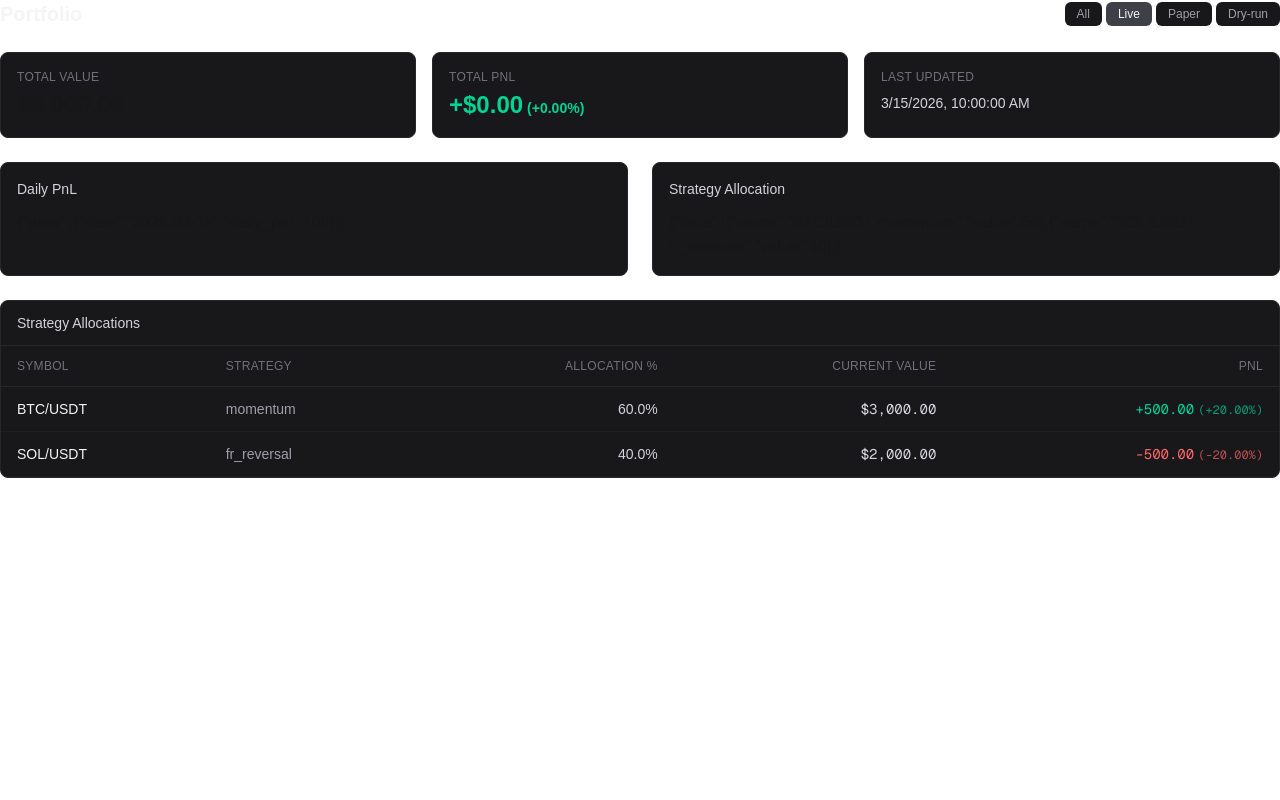
Test: Portfolio — detail panel › shows '—' for null position_count and last_signal_time
SOL has position_count: null and last_signal_time: null
What coordinates should you click on to do the following:
click the text "SOL/USDT"
I would click on:
 (52, 454)
Its box is [1,432,210,476].
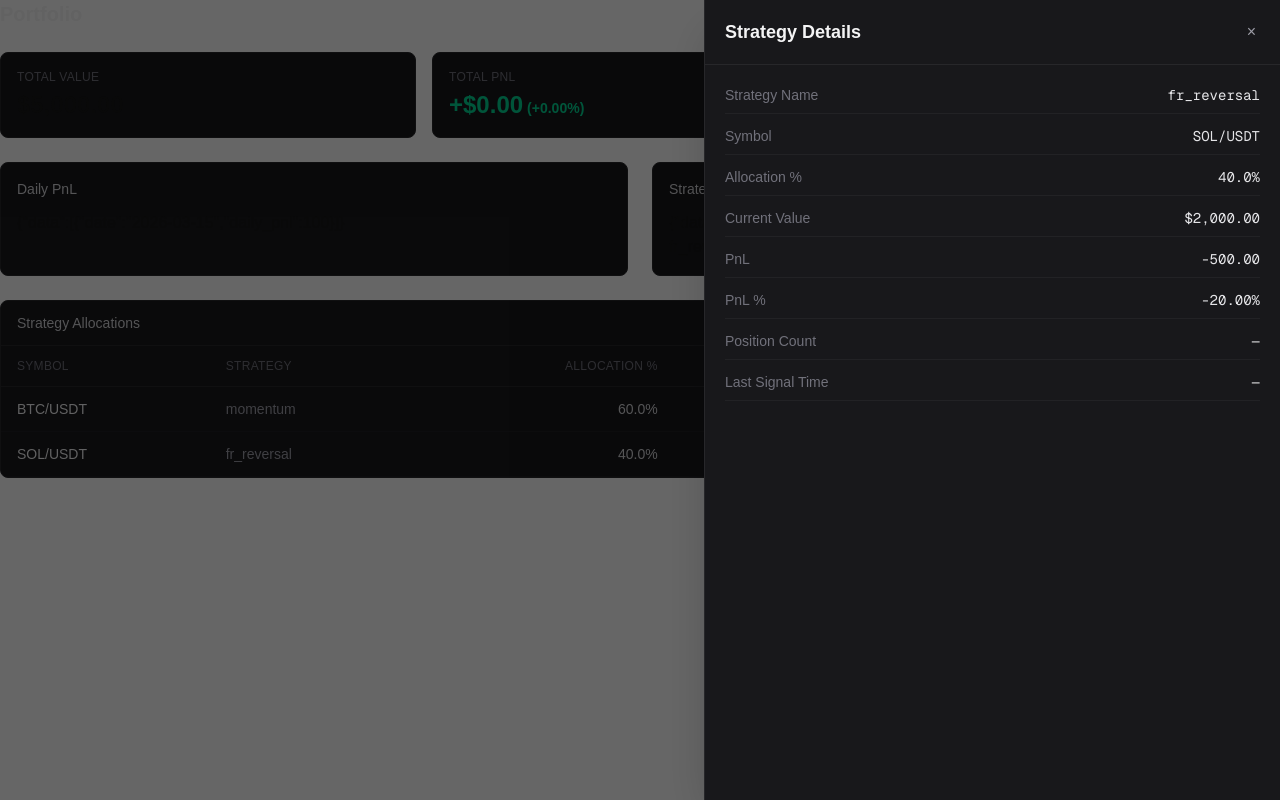
Check: the dialog "Strategy Details" is shown, box [704,0,1279,799]
